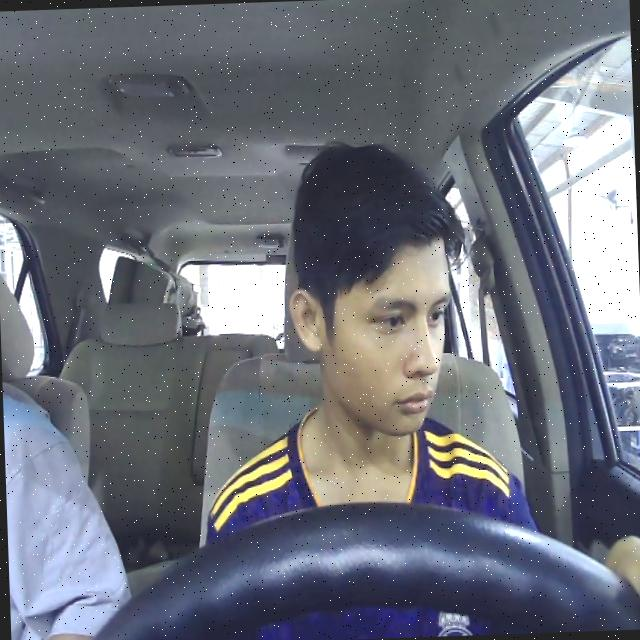seeing_right: (284, 235, 455, 438)
